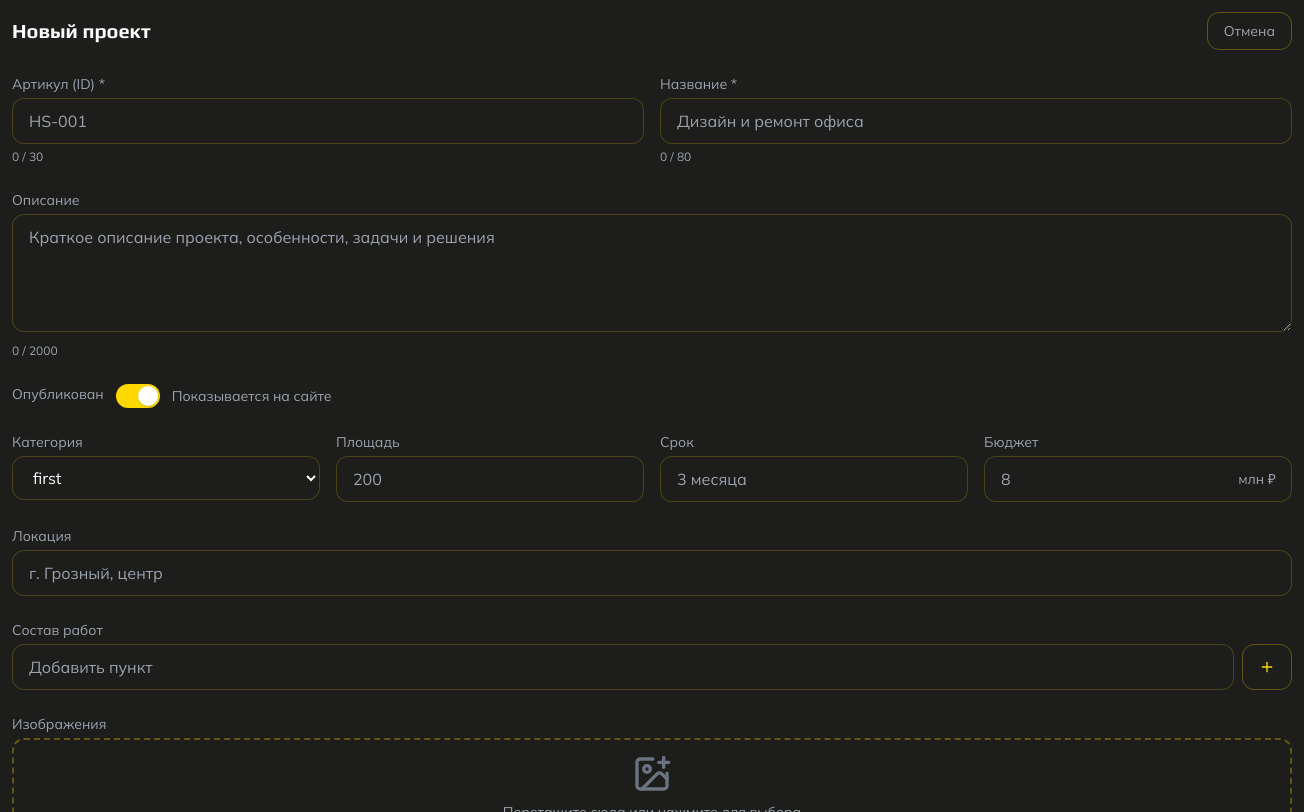
ProjectForm › creates a new category with its normalized key
The width and height of the screenshot is (1304, 812).
Select "➕ Добавить категорию" in the dropdown labelled "Категория" at (166, 478), box top-left (12, 456), bottom-right (320, 500)
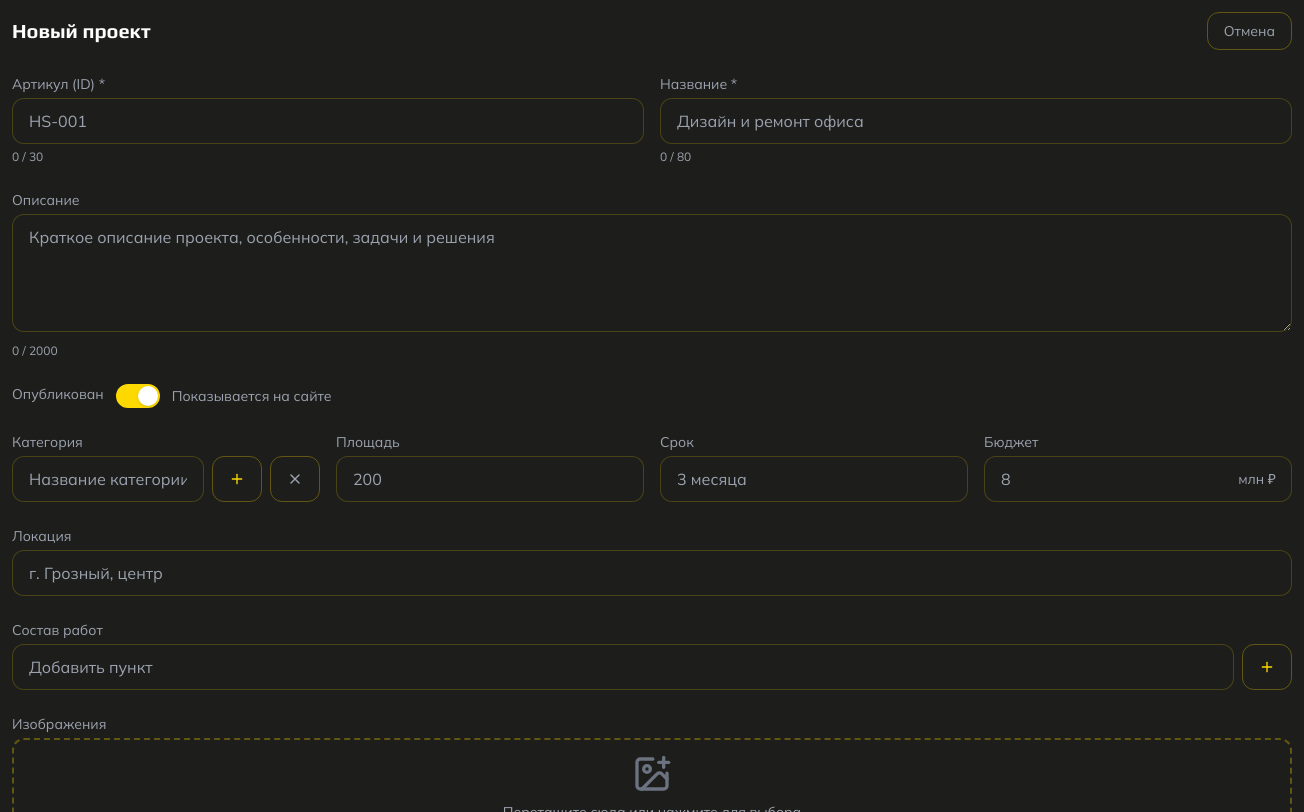
Type "  New category  " into the field with placeholder "Название категории" at (108, 479), box top-left (12, 456), bottom-right (204, 502)
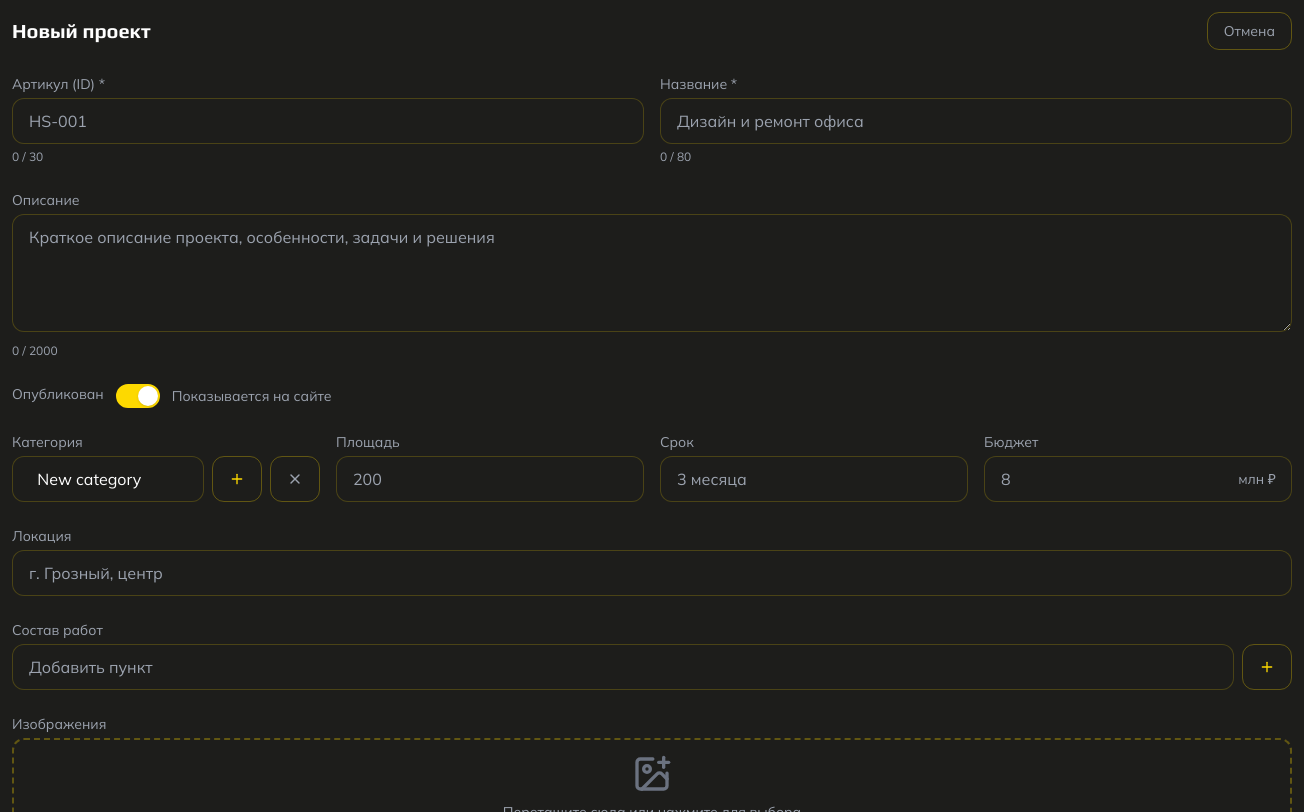
Click the button named "Добавить категорию" at (237, 479), box top-left (212, 456), bottom-right (262, 502)
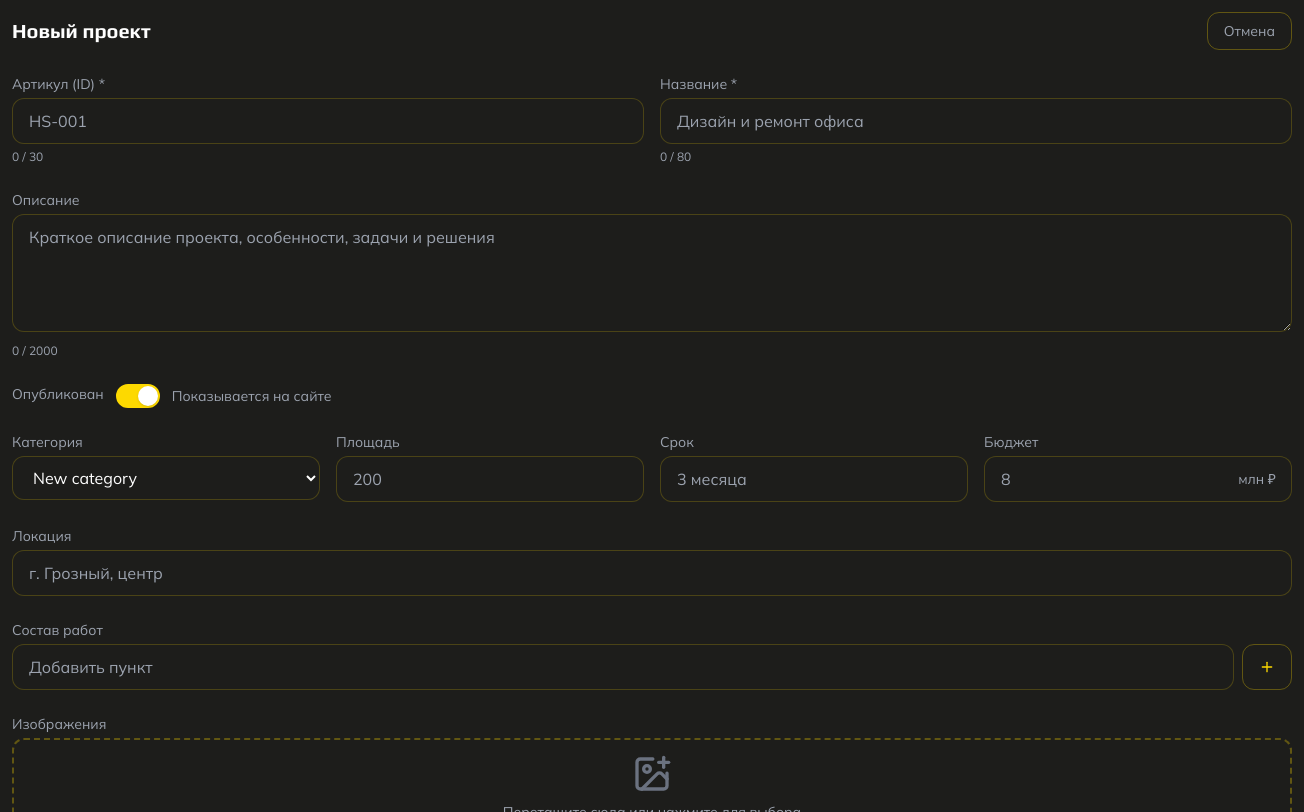
Expected: the field is gone
